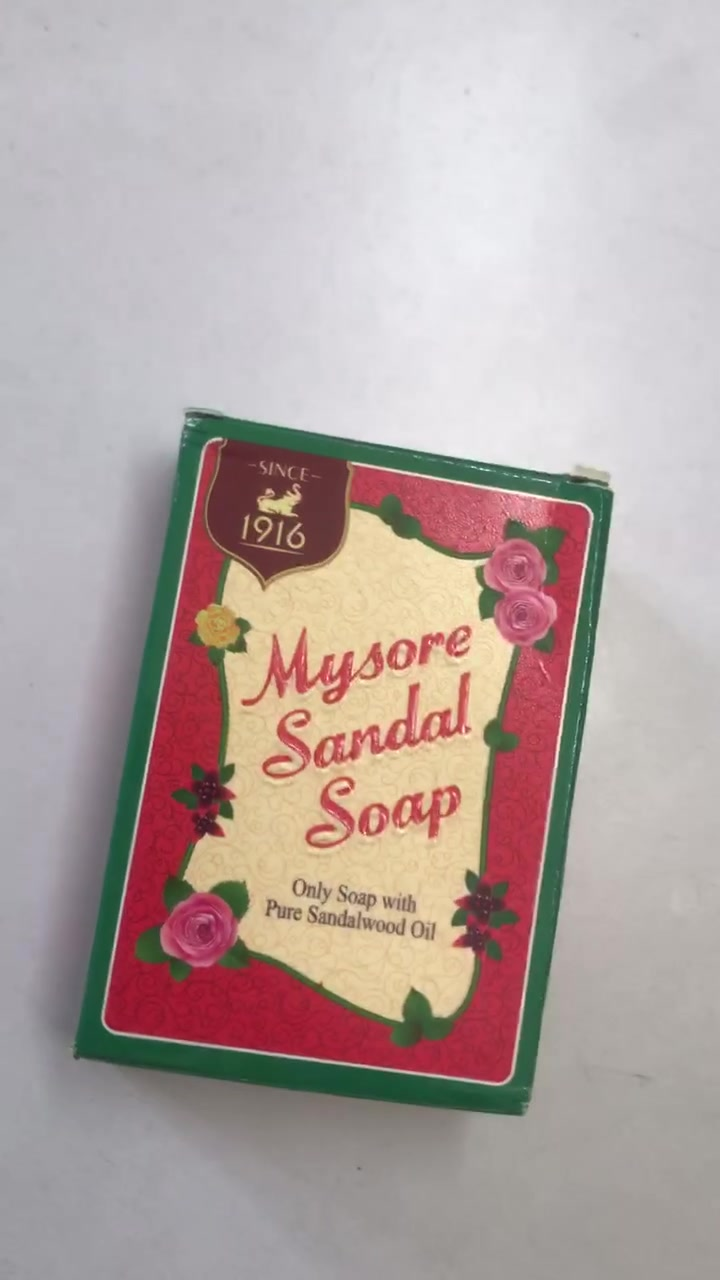mysore sandal soap: (76, 409, 616, 1121)
